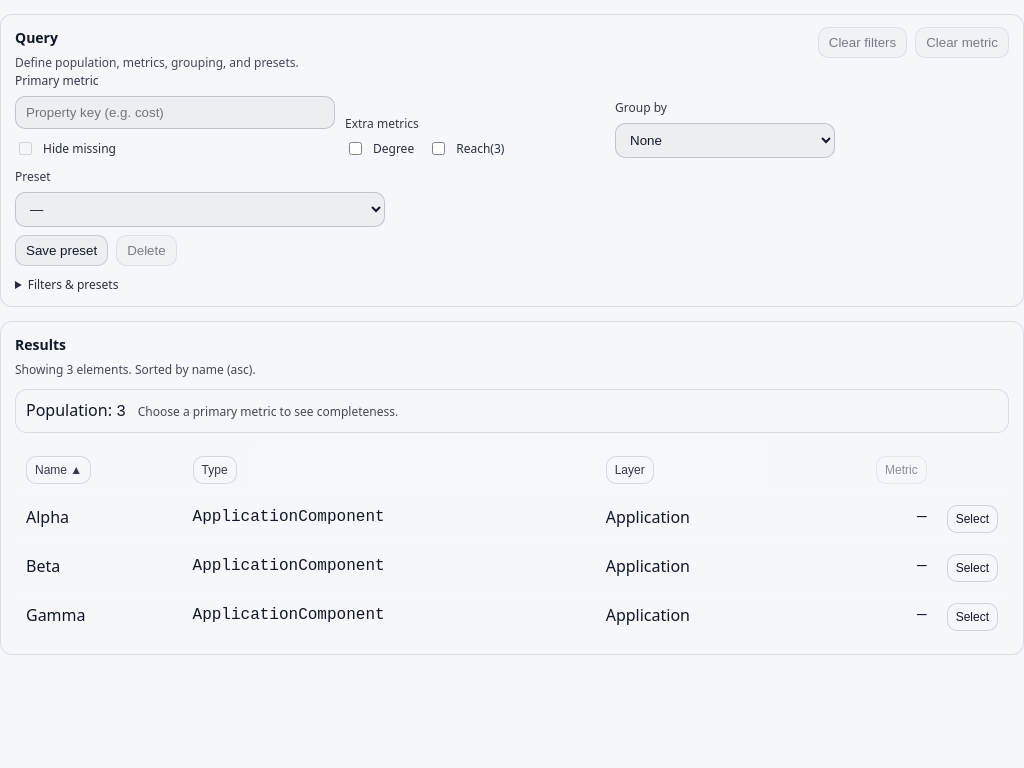
Test case: PortfolioAnalysisView completeness widget › shows population size and metric completeness when a primary metric is selected
The image size is (1024, 768).
Expected: the text with test id "portfolio-completeness-total" reads "3", 116,403 -> 126,421
Expected: the text "Choose a primary metric to see completeness." is shown, 138,403 -> 398,421
Once a metric is selected, completeness numbers are shown.
In the field labelled "Primary metric": (175, 112) 15,96 -> 335,129, type "cost"
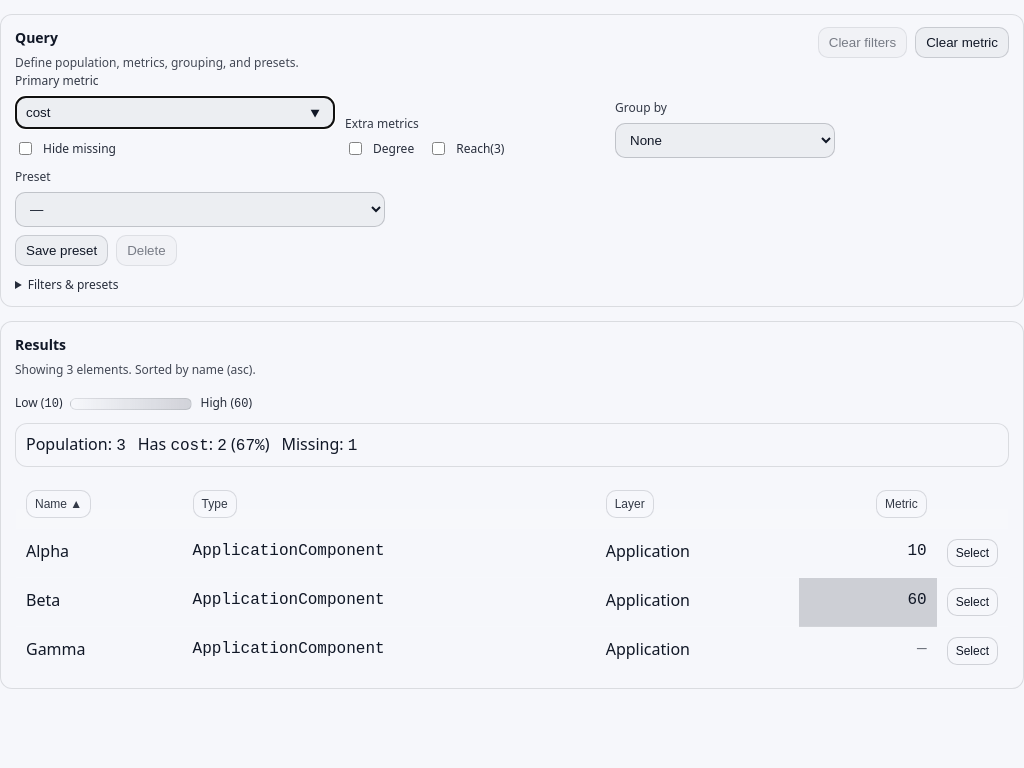
Expected: the text with test id "portfolio-completeness-present" reads "2", 217,437 -> 227,455
Expected: the text with test id "portfolio-completeness-missing" reads "1", 348,437 -> 357,455
Expected: the text with test id "portfolio-completeness-percent" reads "67%", 236,437 -> 265,455
